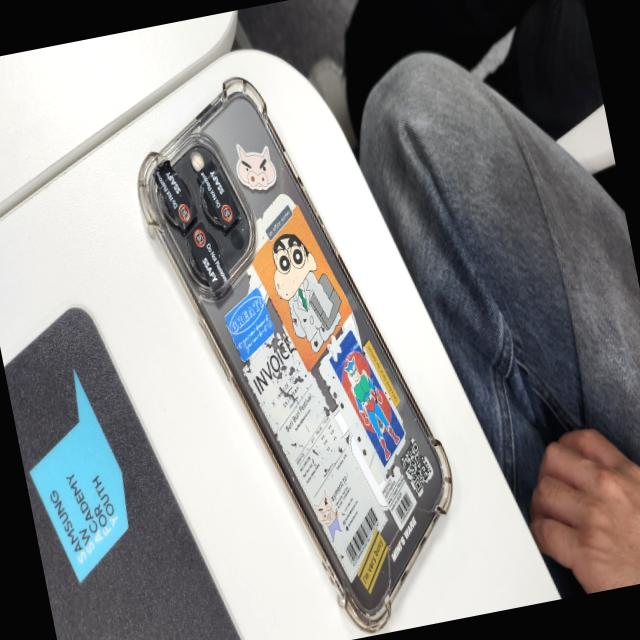phone: (118, 49, 479, 640)
sticker: (180, 217, 236, 305), (149, 152, 202, 238), (195, 155, 243, 236)
